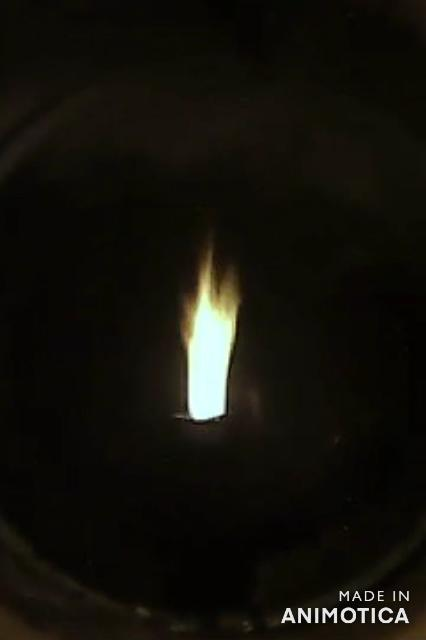burner flame: (177, 236, 248, 428)
